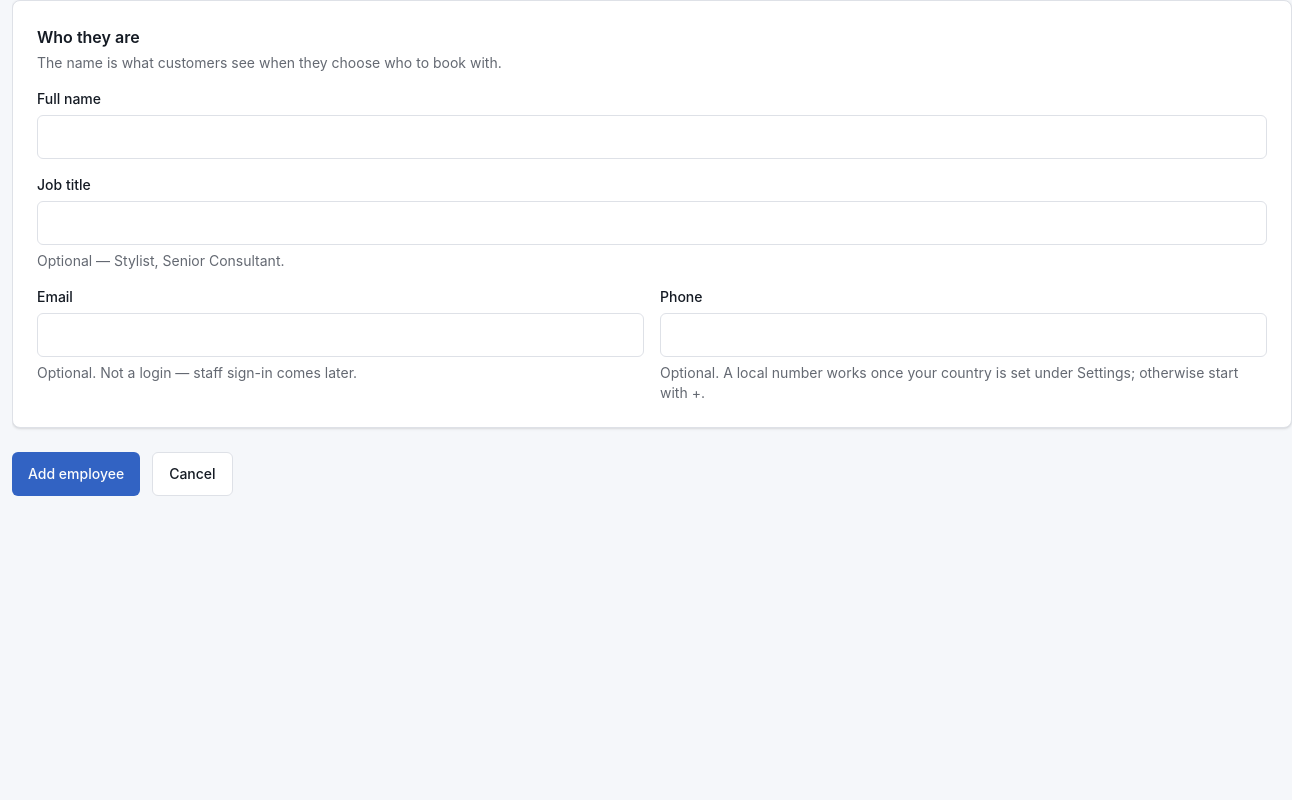
EmployeeForm, refused › shows the server sentence when the refusal names no field
In the field labelled "Full name": x=652, y=137 37,115 -> 1267,159, type "Nino Beridze"
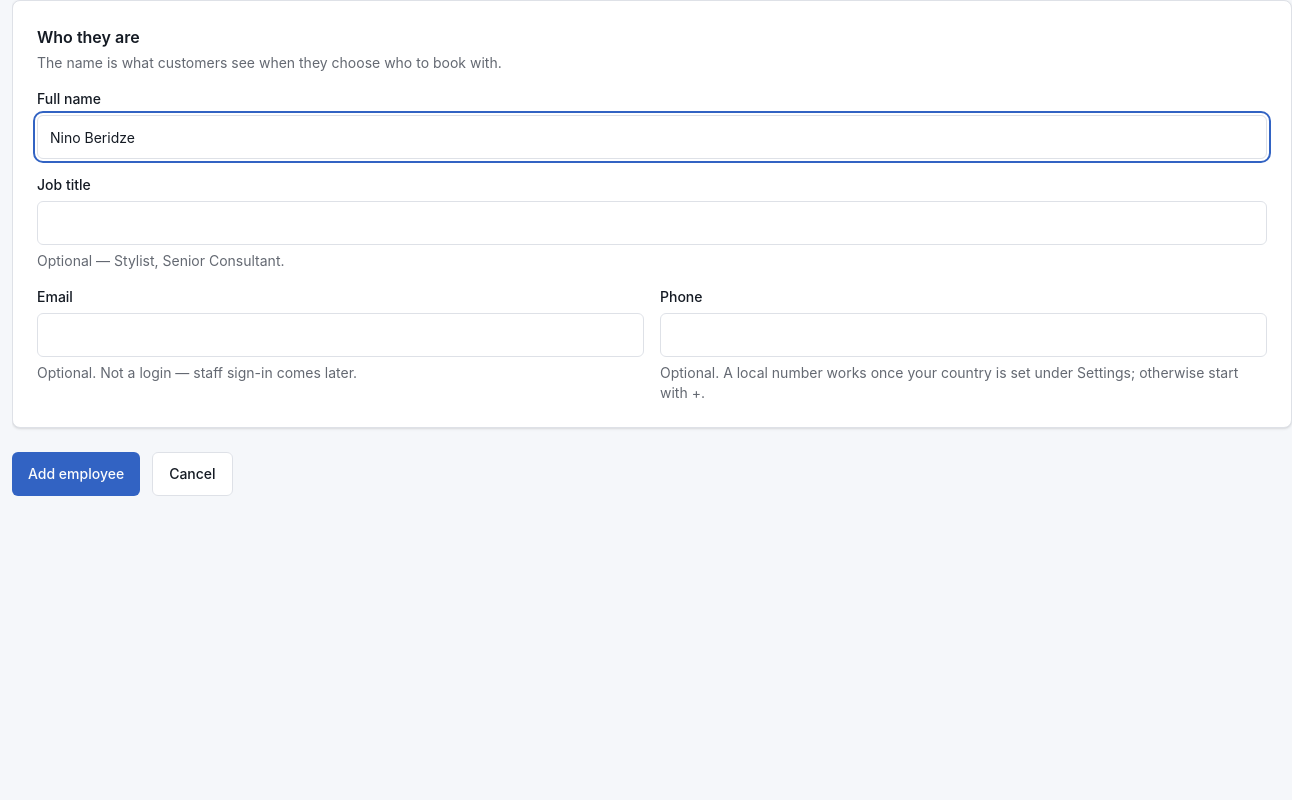
Click the button "Add employee": x=76, y=474 12,452 -> 140,496
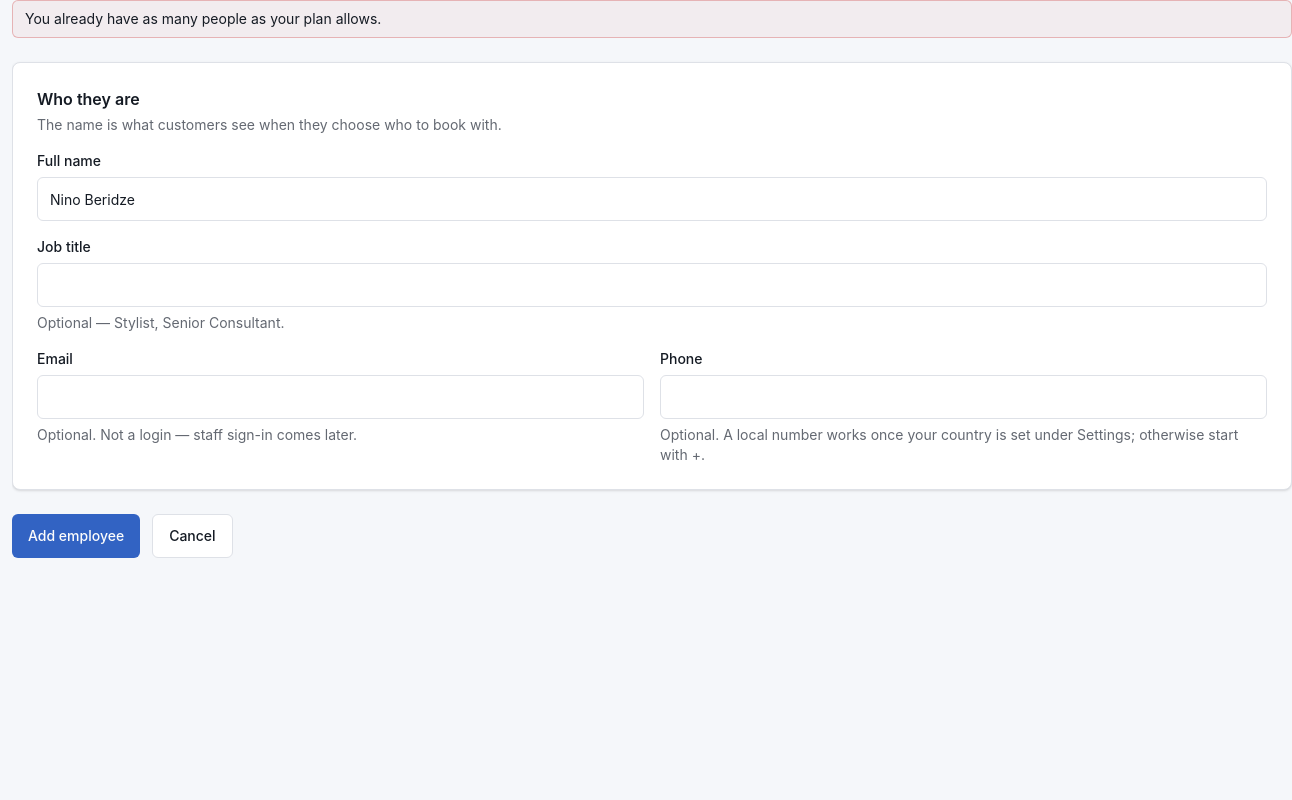
Check: the message reads "You already have as many people as your plan allows.", box 25,10 -> 381,27
